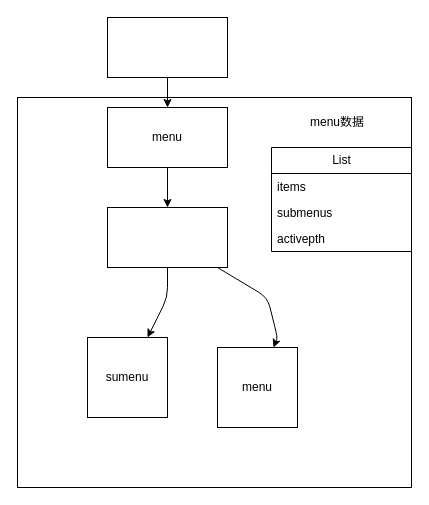
This 429x505 diagram has some shape labels left out. Each missing label, with the centre of its shape:
menuView: [167,47]
sumenuView: [167,237]
